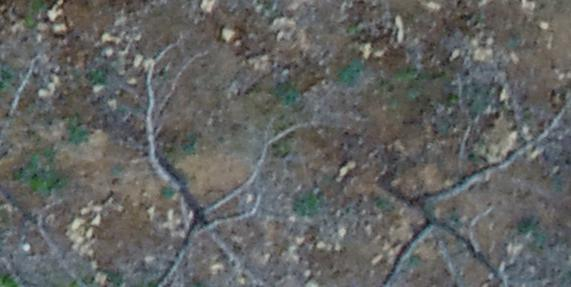apple: (100, 33, 285, 277), (325, 89, 553, 277)
